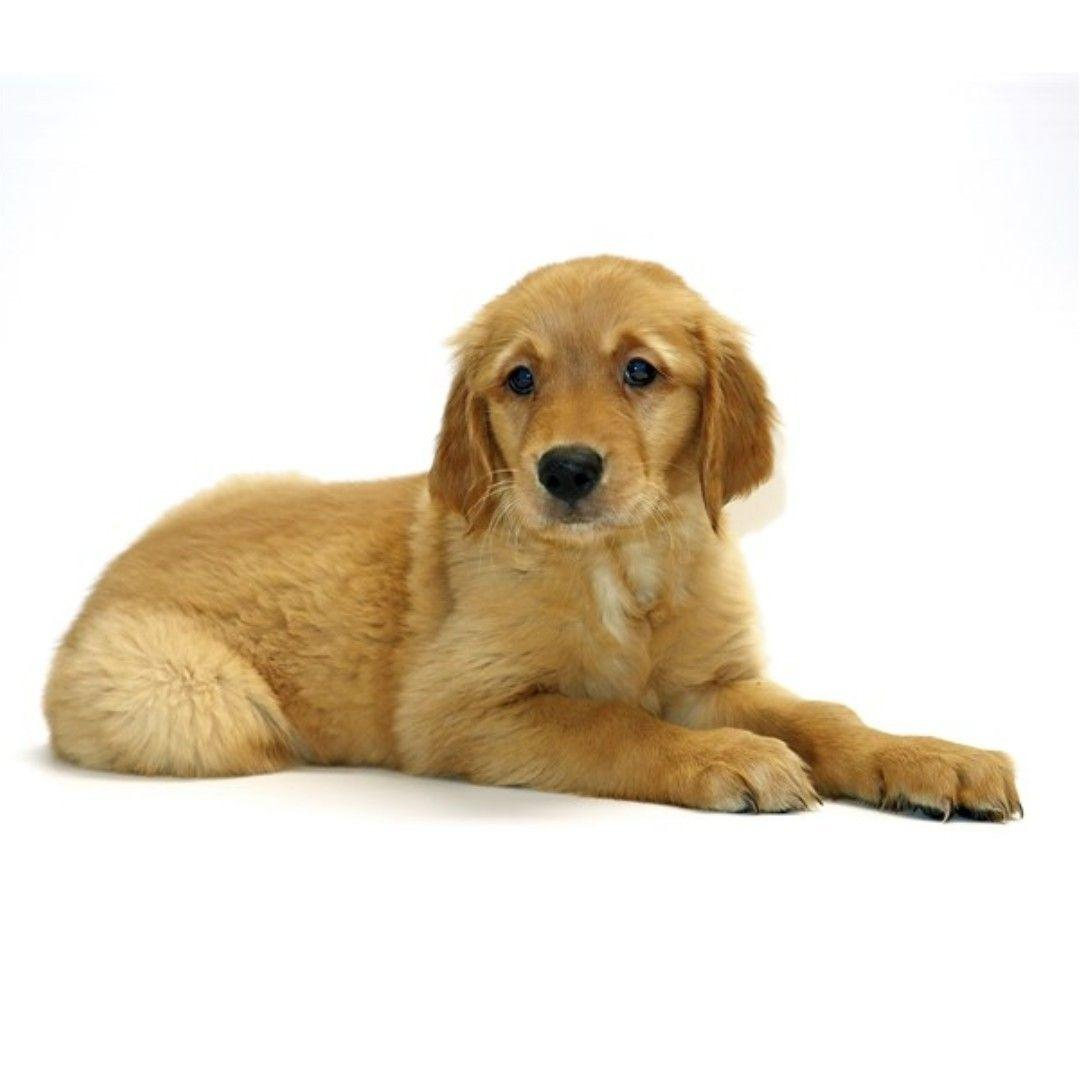puppy-dog: (38, 253, 1029, 832)
